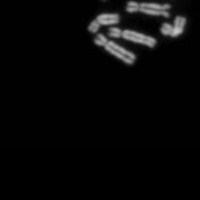chromosome: (93, 32, 136, 65), (109, 27, 157, 47), (126, 0, 171, 20), (88, 12, 121, 34), (162, 16, 185, 38), (98, 0, 113, 1)
